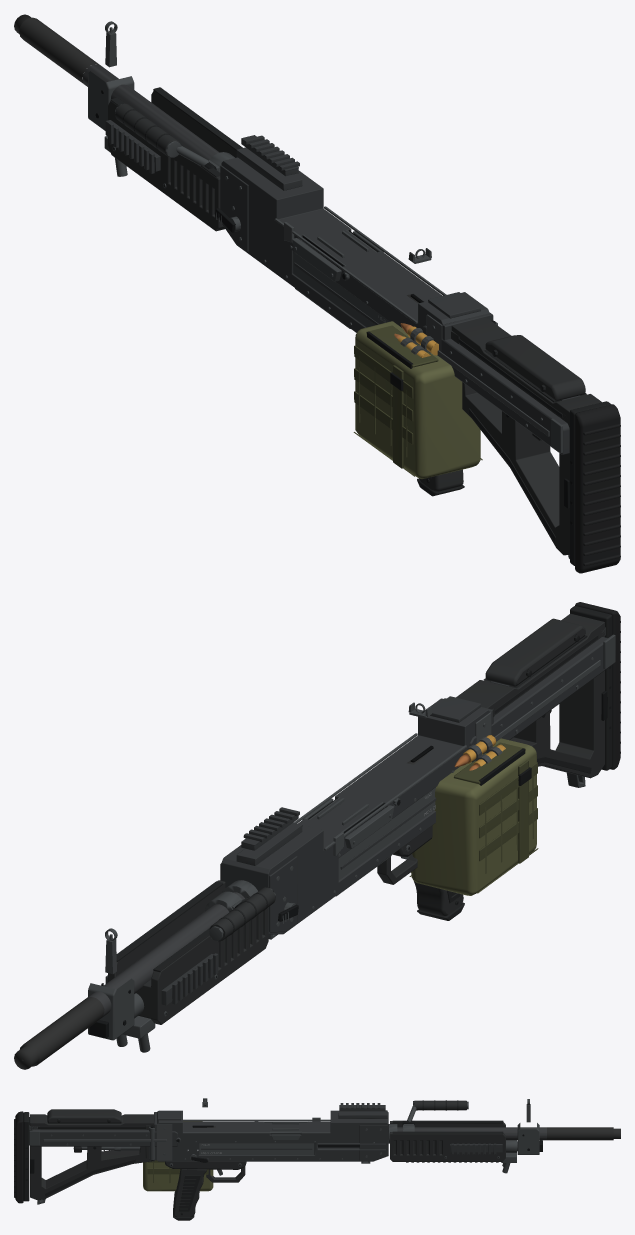
File: weapon-46-HxJa2J0O.glb
3 renders of one model, top to bottom at view 1: azimuth 30°, elevation 25°; view 2: azimuth 150°, elevation 25°; view 3: azimuth 270°, elevation 25°, orthographic. The views are drawn at different scales.
Visible parts, largest first — view 1: salient_weapon_body, salient_weapon_magazine, salient_weapon_cover, salient_weapon_belt, salient_weapon_iron; view 2: salient_weapon_body, salient_weapon_magazine, salient_weapon_cover, salient_weapon_belt, salient_weapon_iron; view 3: salient_weapon_body, salient_weapon_cover, salient_weapon_magazine, salient_weapon_bipodLeft.
Part boxes in pixels (left/top/right/bottom): salient_weapon_body: left=14, top=14, right=620, bottom=573; salient_weapon_magazine: left=353, top=321, right=482, bottom=478; salient_weapon_cover: left=422, top=325, right=580, bottom=454; salient_weapon_belt: left=394, top=323, right=438, bottom=357; salient_weapon_iron: left=105, top=21, right=431, bottom=263; salient_weapon_body: left=14, top=602, right=620, bottom=1069; salient_weapon_magazine: left=409, top=738, right=538, bottom=895; salient_weapon_cover: left=469, top=627, right=615, bottom=745; salient_weapon_belt: left=454, top=735, right=505, bottom=770; salient_weapon_iron: left=105, top=702, right=431, bottom=974; salient_weapon_body: left=14, top=1100, right=620, bottom=1220; salient_weapon_cover: left=29, top=1117, right=180, bottom=1146; salient_weapon_magazine: left=143, top=1121, right=213, bottom=1191; salient_weapon_bipodLeft: left=73, top=1146, right=140, bottom=1152.
Size of the model in its own units: 0.1131 by 0.2465 by 1.15.
